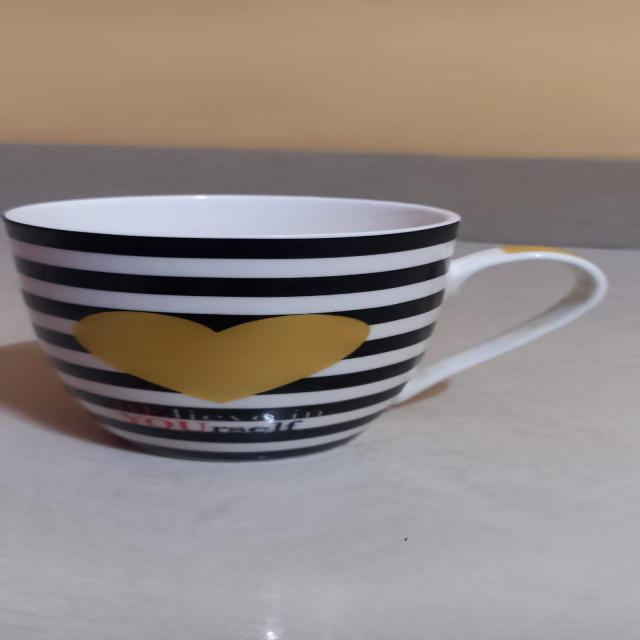cup: (1, 183, 605, 467)
